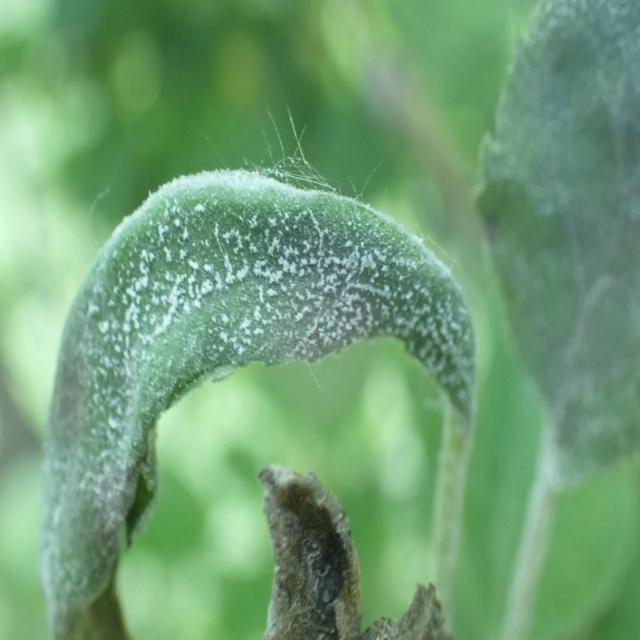Powdery_mildew: (40, 168, 471, 627)
